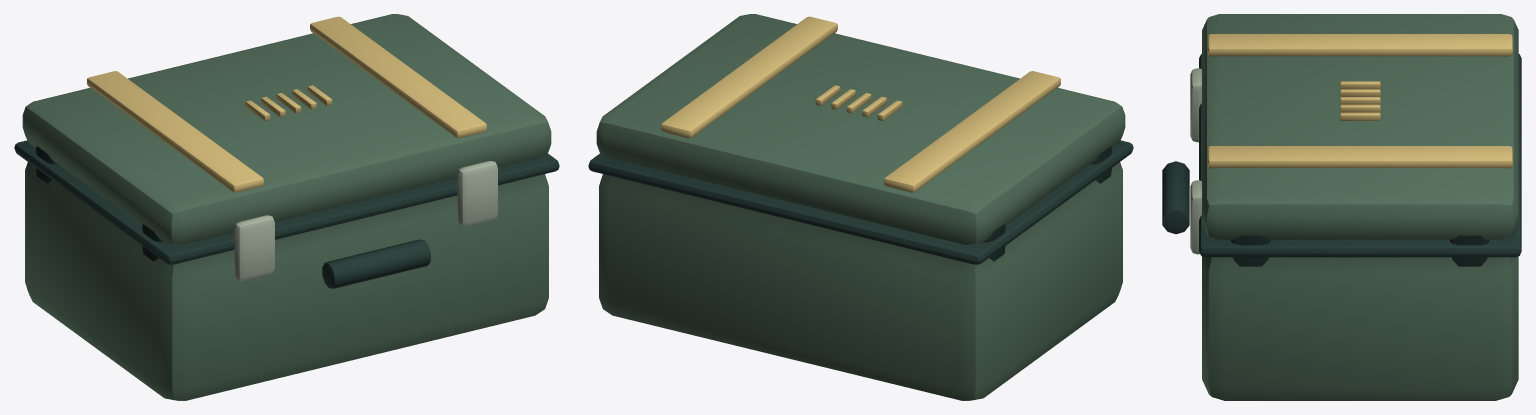
File: kf-ammo.glb
The picture shows the model from 3 angles, left to right: view 1: azimuth 30°, elevation 25°; view 2: azimuth 150°, elevation 25°; view 3: azimuth 270°, elevation 25°; orthographic projection. The views are drawn at different scales.
Visible parts, largest first — view 1: SupplyCase Case polymer, SupplyCase Medical mark, SupplyCase Gasket, SupplyCase Latches; view 2: SupplyCase Case polymer, SupplyCase Medical mark, SupplyCase Gasket; view 3: SupplyCase Case polymer, SupplyCase Medical mark, SupplyCase Gasket, SupplyCase Latches.
Part boxes in pixels (x1,y1,x2,y2): SupplyCase Case polymer: (22,14,551,400); SupplyCase Medical mark: (87,16,486,192); SupplyCase Gasket: (14,140,559,288); SupplyCase Latches: (234,161,497,280); SupplyCase Case polymer: (596,14,1125,400); SupplyCase Medical mark: (661,16,1060,192); SupplyCase Gasket: (588,140,1133,264); SupplyCase Case polymer: (1202,14,1518,400); SupplyCase Medical mark: (1207,34,1512,168); SupplyCase Gasket: (1162,54,1521,266); SupplyCase Latches: (1190,68,1201,254).
Size of the model in its own units: 0.81 by 0.414 by 0.6238.
